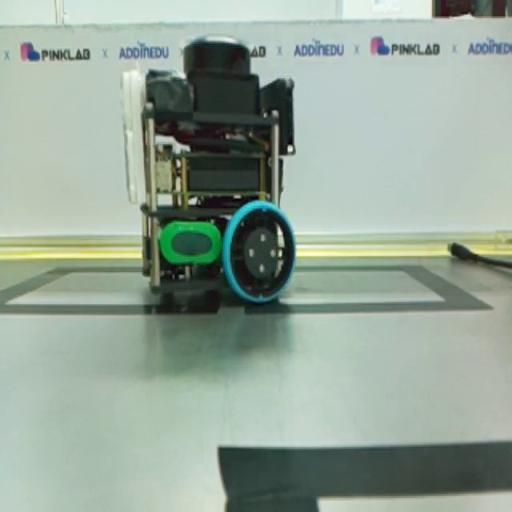pinky_63: (119, 33, 296, 306)
